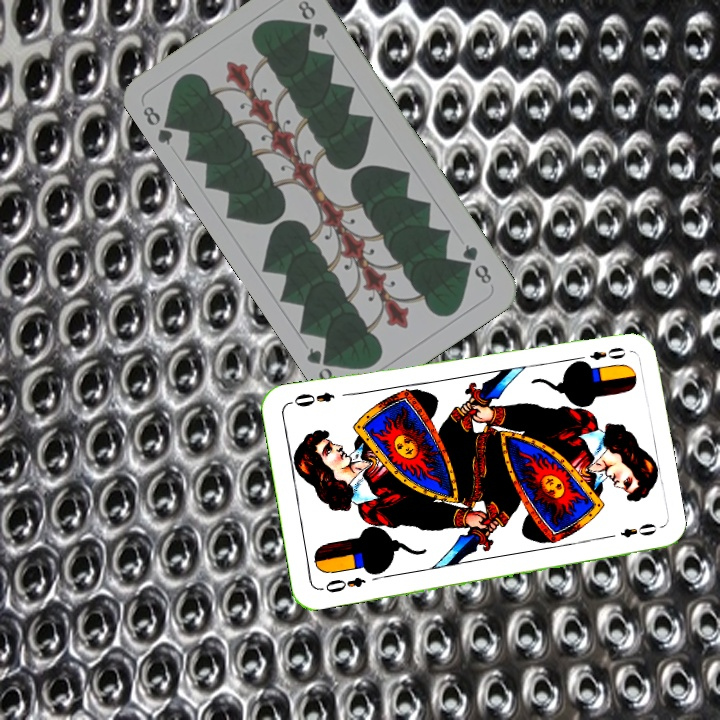EO: (571, 343, 628, 367), (316, 573, 368, 596)
G8: (138, 101, 180, 148), (458, 240, 495, 287)
